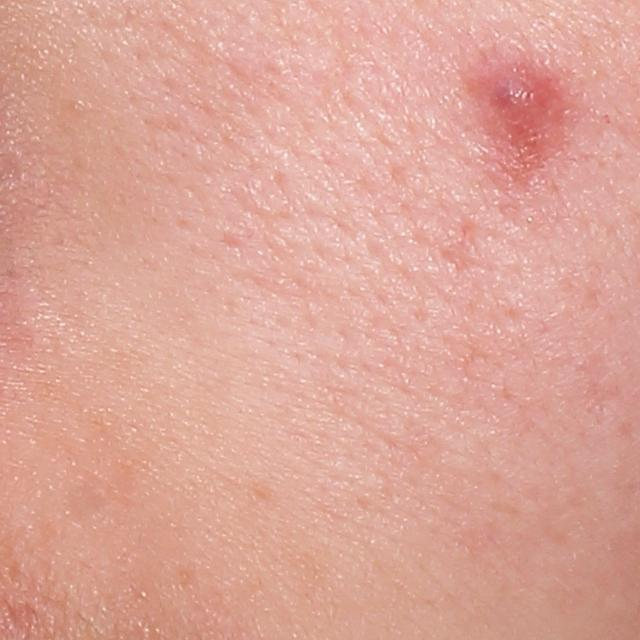papule: (482, 69, 552, 128)
